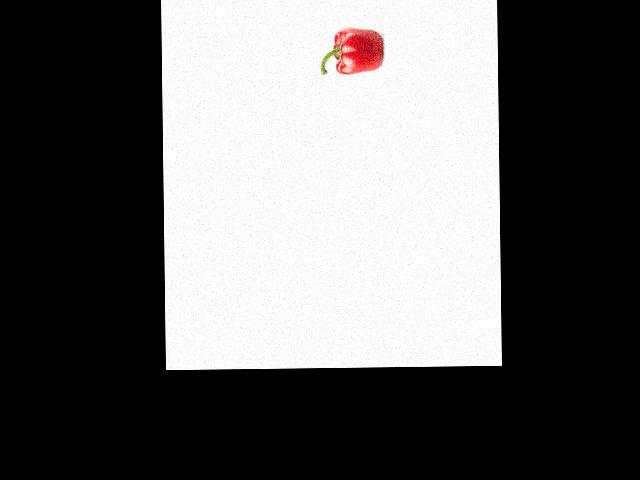bell_pepper: (319, 28, 384, 76)
